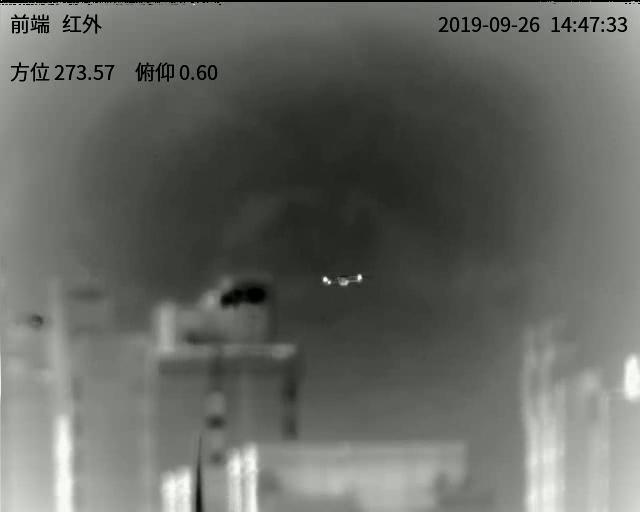DRONE: (319, 273, 365, 289)
